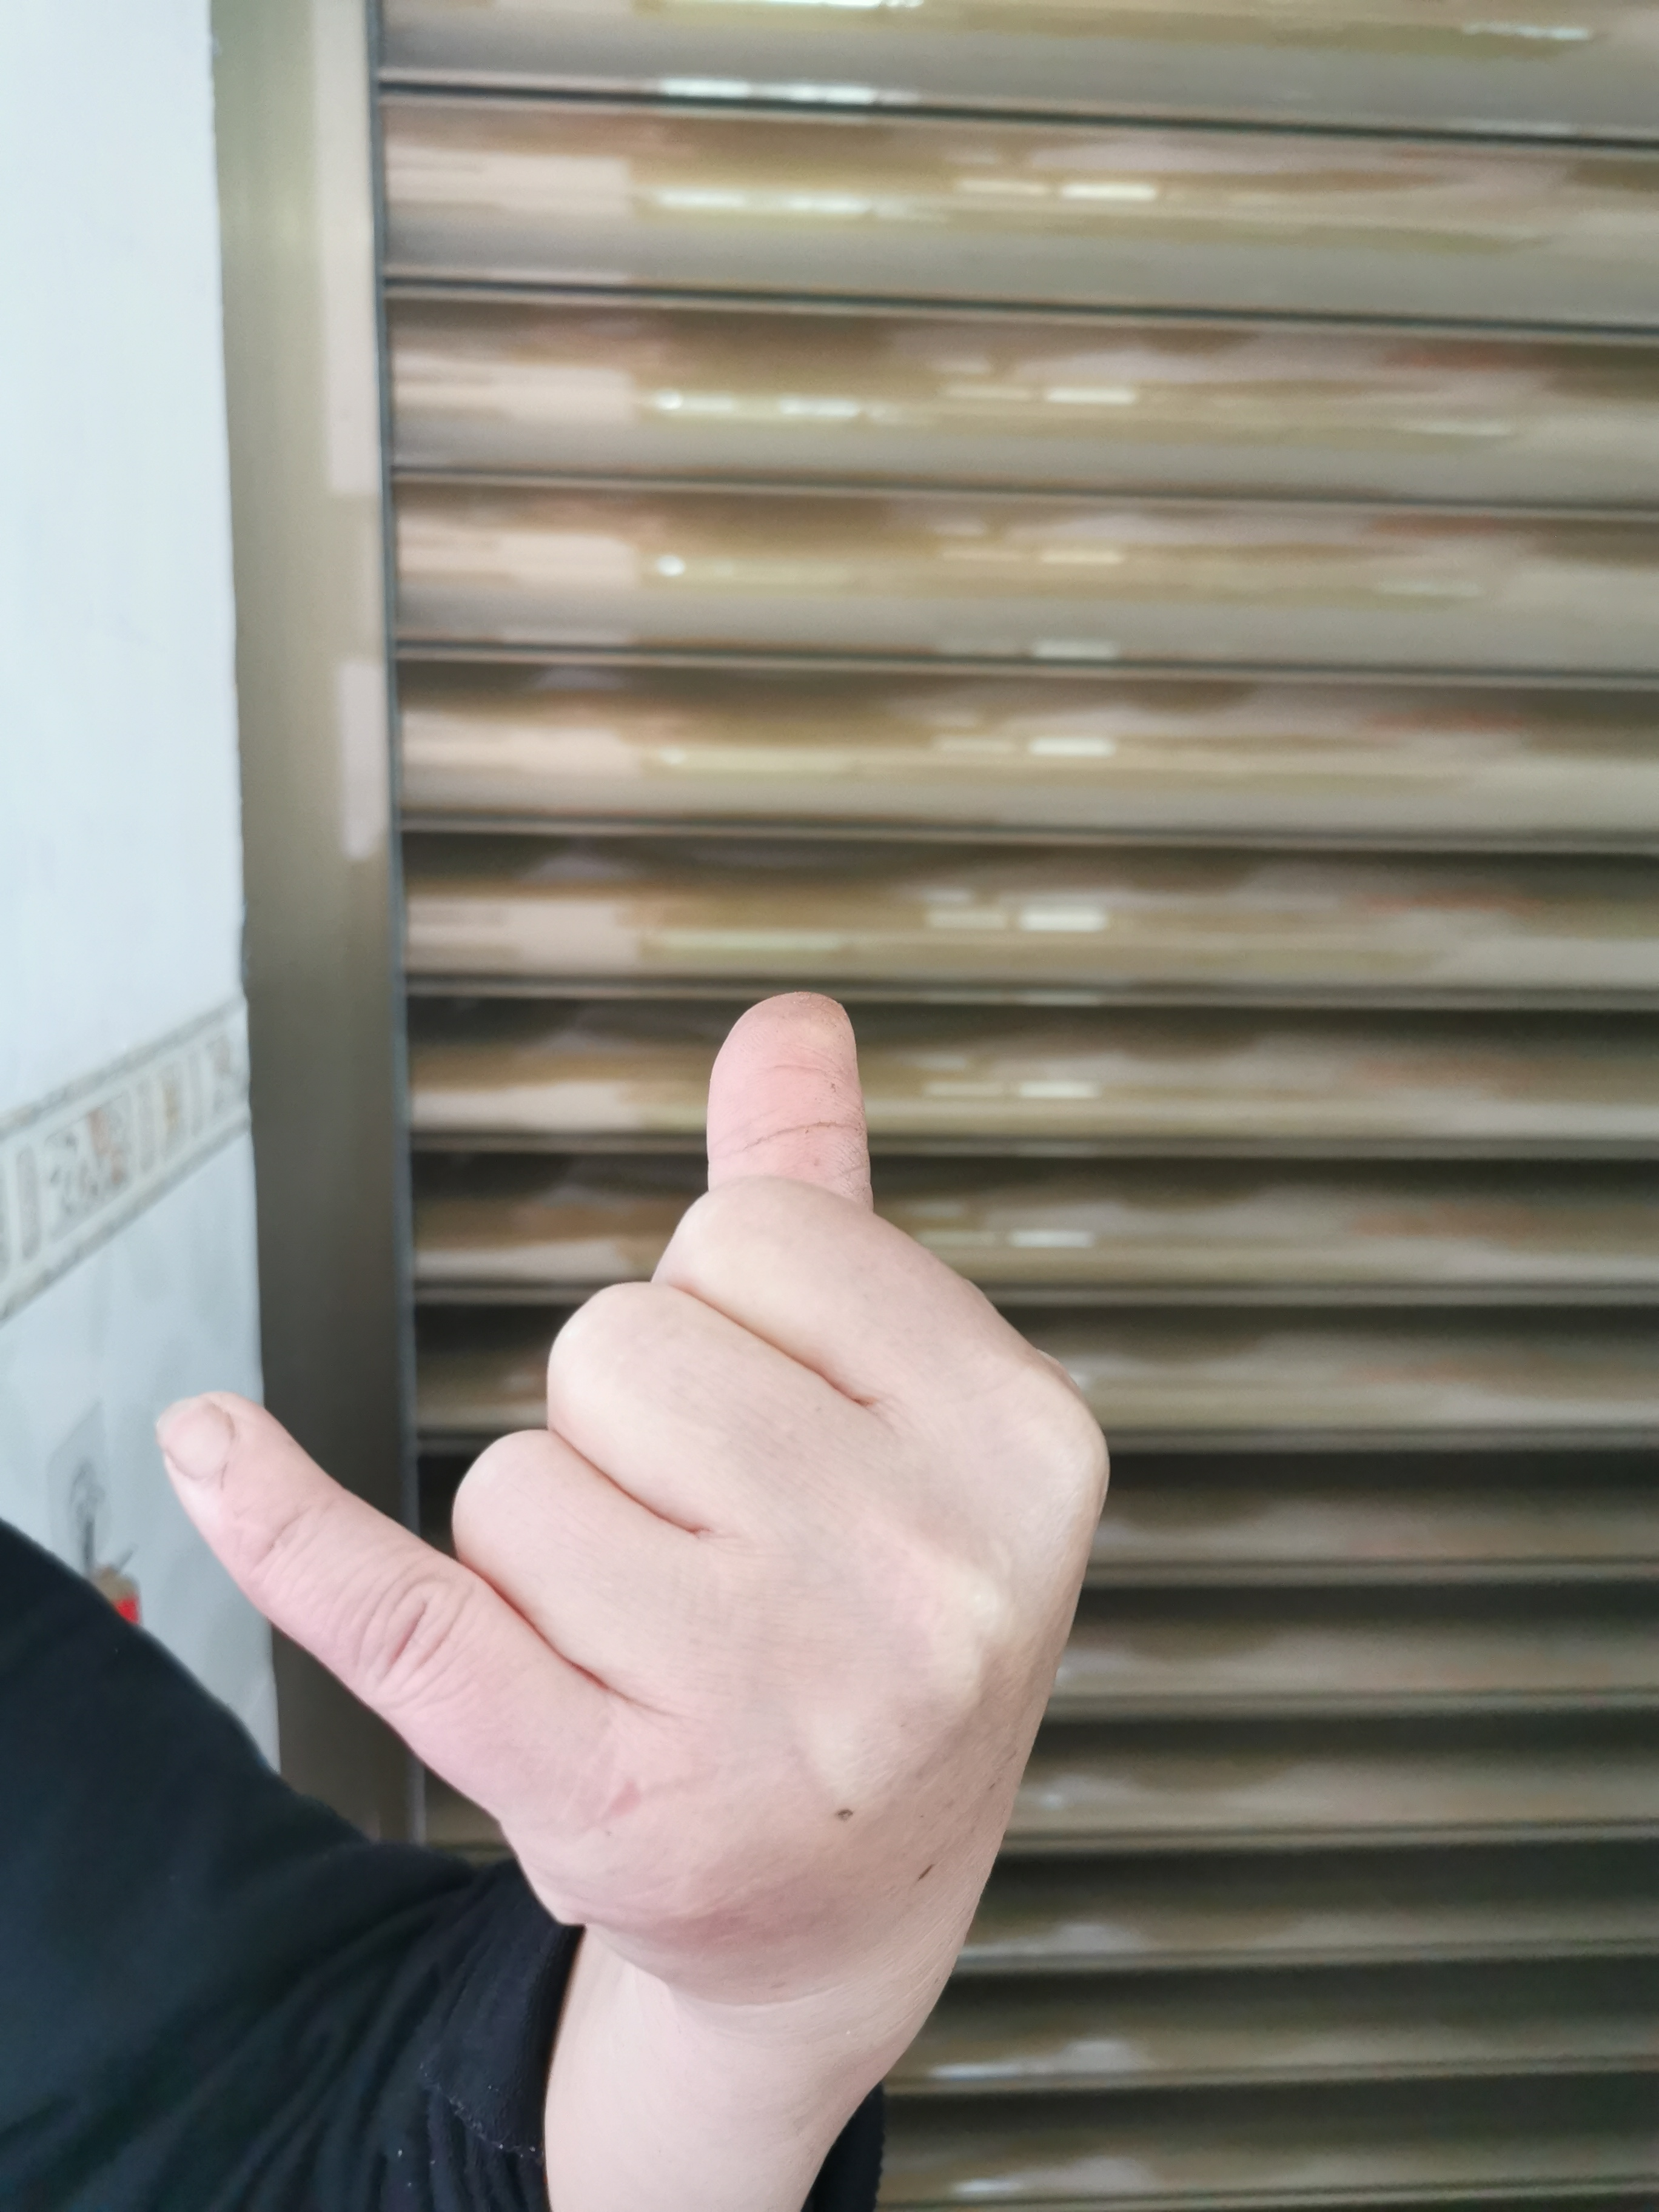clockwise: (145, 968, 1129, 2069)
